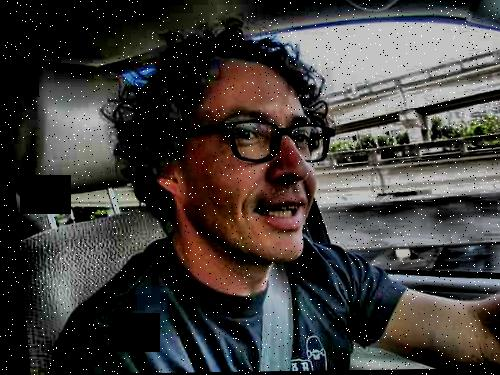seatbelt: (226, 241, 321, 358)
